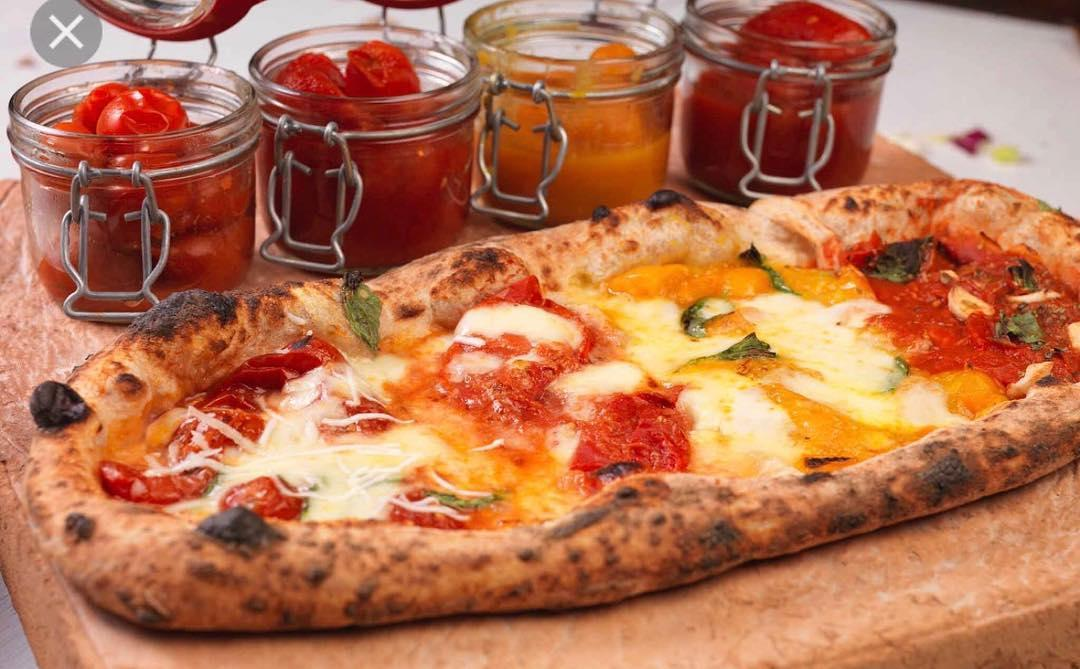Pizza: (36, 176, 1080, 629)
Tomatoes: (899, 268, 1034, 372), (571, 381, 692, 494), (451, 288, 588, 370), (93, 418, 222, 505), (430, 365, 567, 427), (220, 468, 309, 524), (211, 348, 323, 392)
